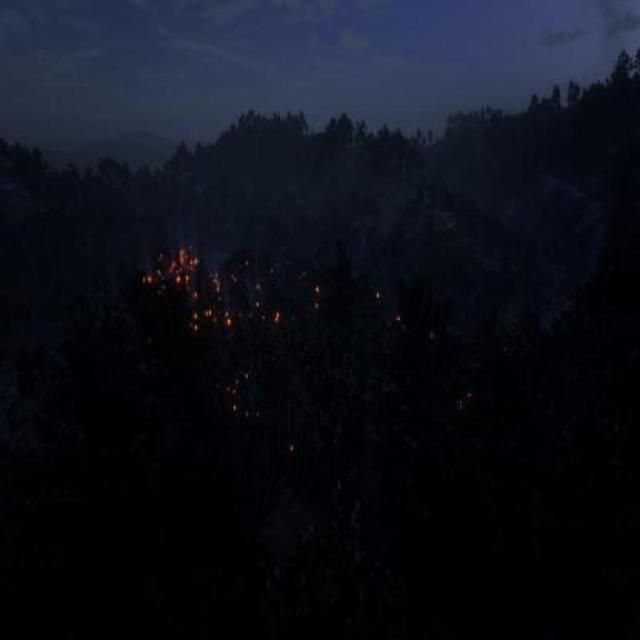Fire: (142, 244, 264, 416)
